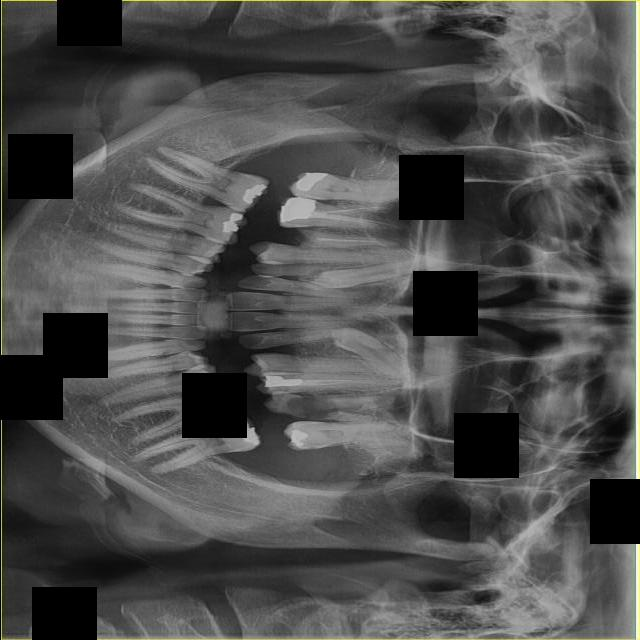72: (322, 408, 372, 427)
74: (311, 200, 400, 228), (317, 235, 385, 247), (299, 376, 370, 386)
NucleOSS Implant: (292, 161, 329, 195), (232, 418, 264, 449), (281, 197, 314, 222), (239, 178, 268, 206), (211, 388, 237, 418), (219, 212, 247, 235), (284, 425, 308, 448), (265, 377, 300, 389)
Sterngold Implant: (277, 395, 338, 419), (297, 229, 316, 248), (298, 440, 325, 452)
